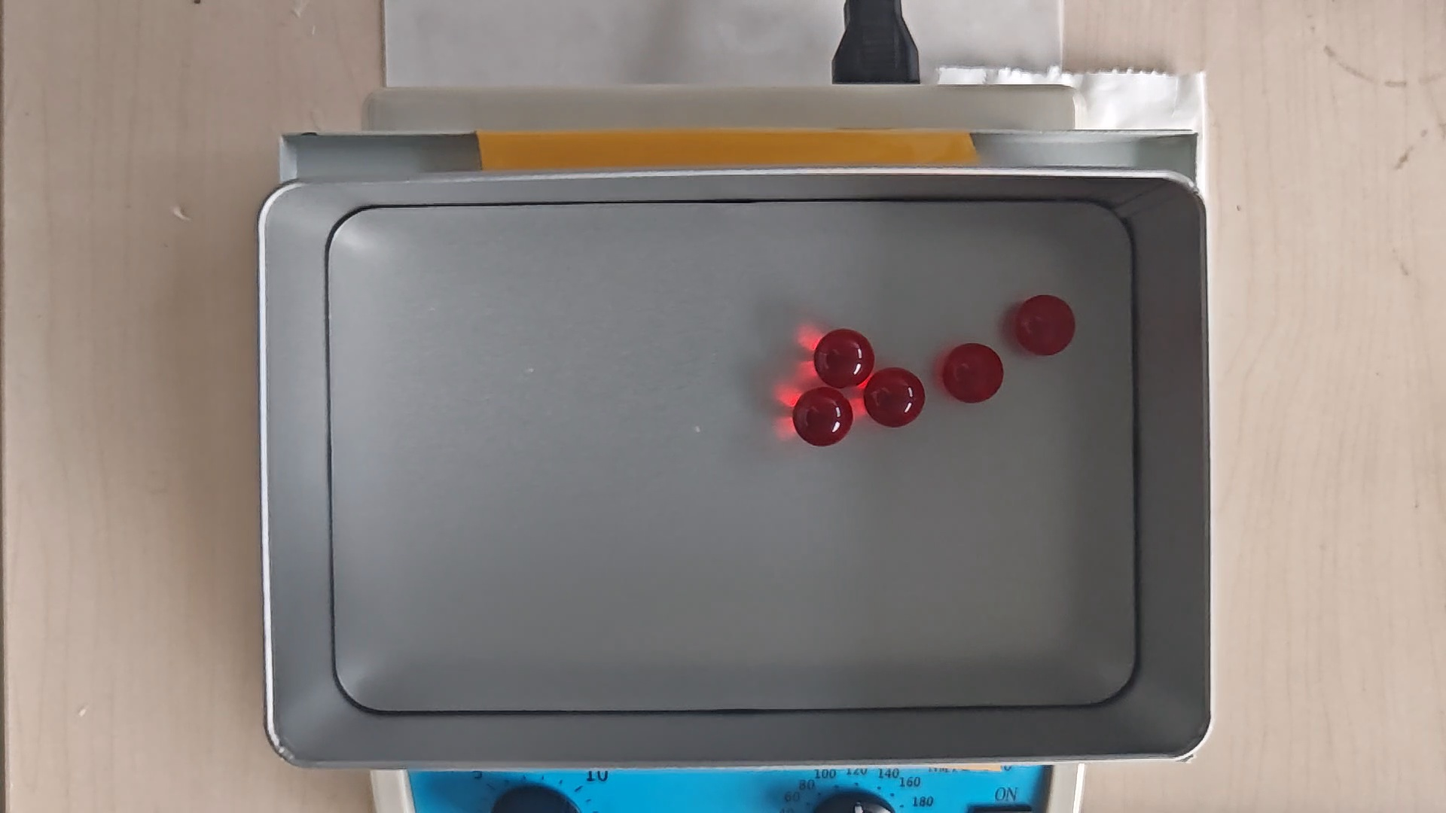ball: (1013, 295, 1074, 355), (794, 386, 853, 448), (865, 368, 924, 429), (944, 343, 1003, 402), (816, 329, 873, 388)
container: (325, 199, 1139, 714)
